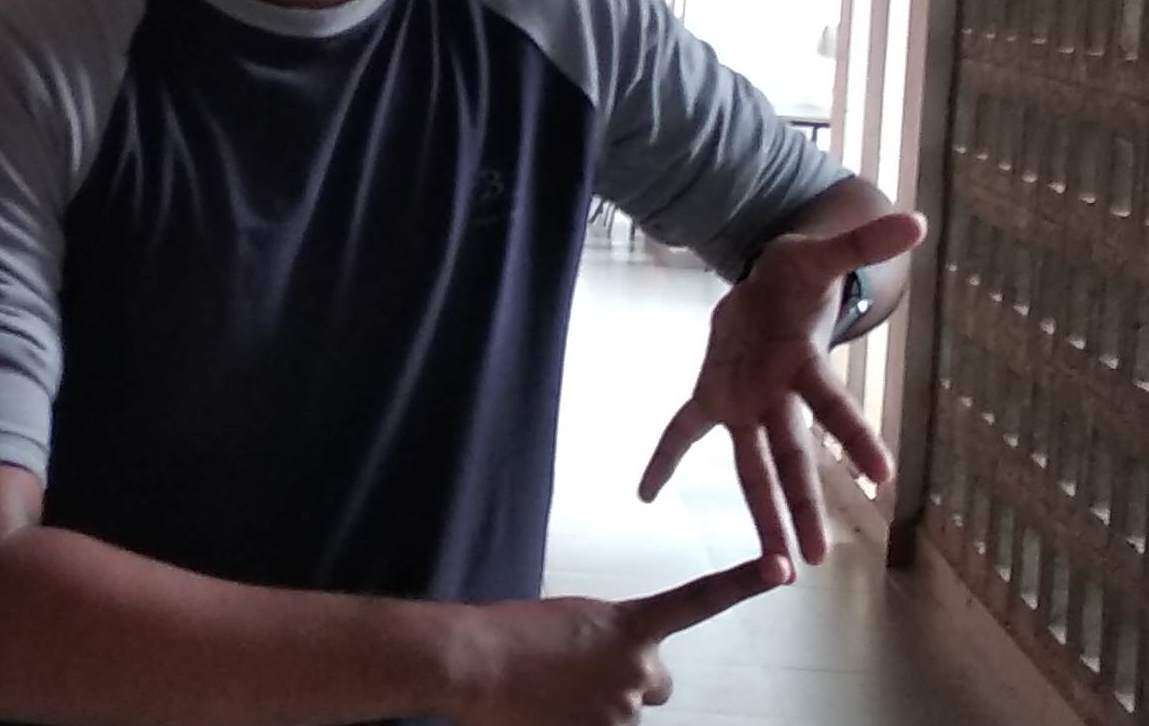e: (570, 371, 898, 685)
